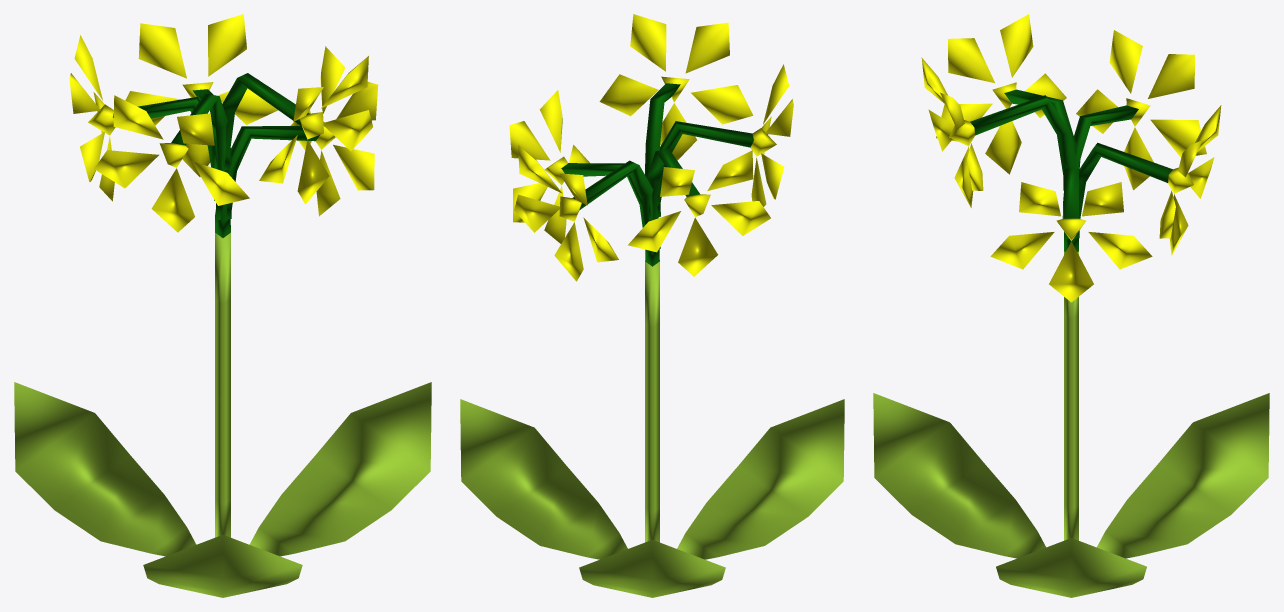
Rendered from primrose_0003.obj.
3 renders of one model, left to right at view 1: azimuth 30°, elevation 25°; view 2: azimuth 150°, elevation 25°; view 3: azimuth 270°, elevation 25°, orthographic. The views are drawn at different scales.
Visible parts, largest first — view 1: primrose_0003; view 2: primrose_0003; view 3: primrose_0003.
Part boxes in pixels (<box>): primrose_0003: <box>14,14,431,597</box>; primrose_0003: <box>460,14,844,597</box>; primrose_0003: <box>873,14,1269,597</box>.
Size of the model in its own units: 2.21 by 3.22 by 2.27.
Materials: 1 (1 with a texture image).
